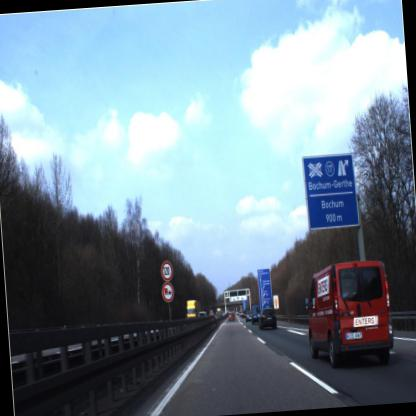prohibitory: (158, 282, 177, 306), (158, 258, 174, 282)
